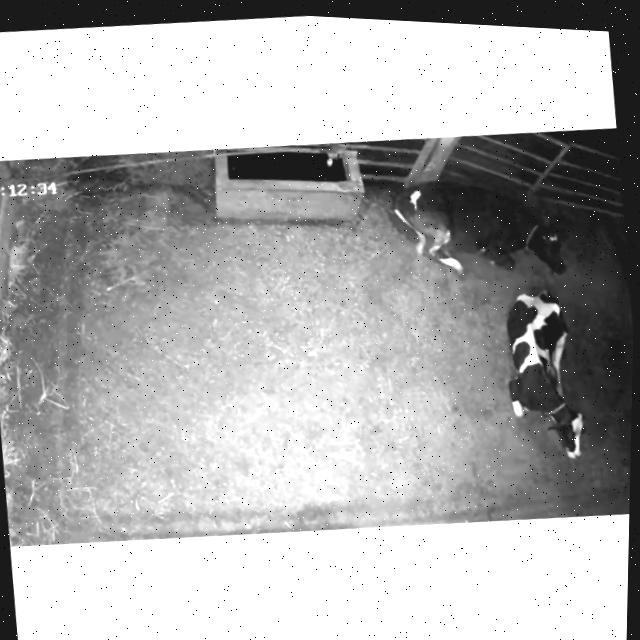lay: (383, 158, 586, 300), (475, 275, 607, 478)
